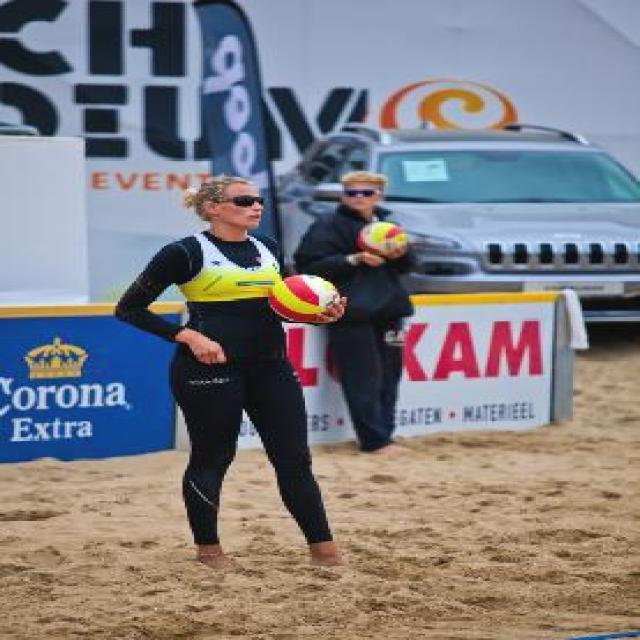volleyball: (269, 275, 343, 325), (358, 223, 406, 259)
